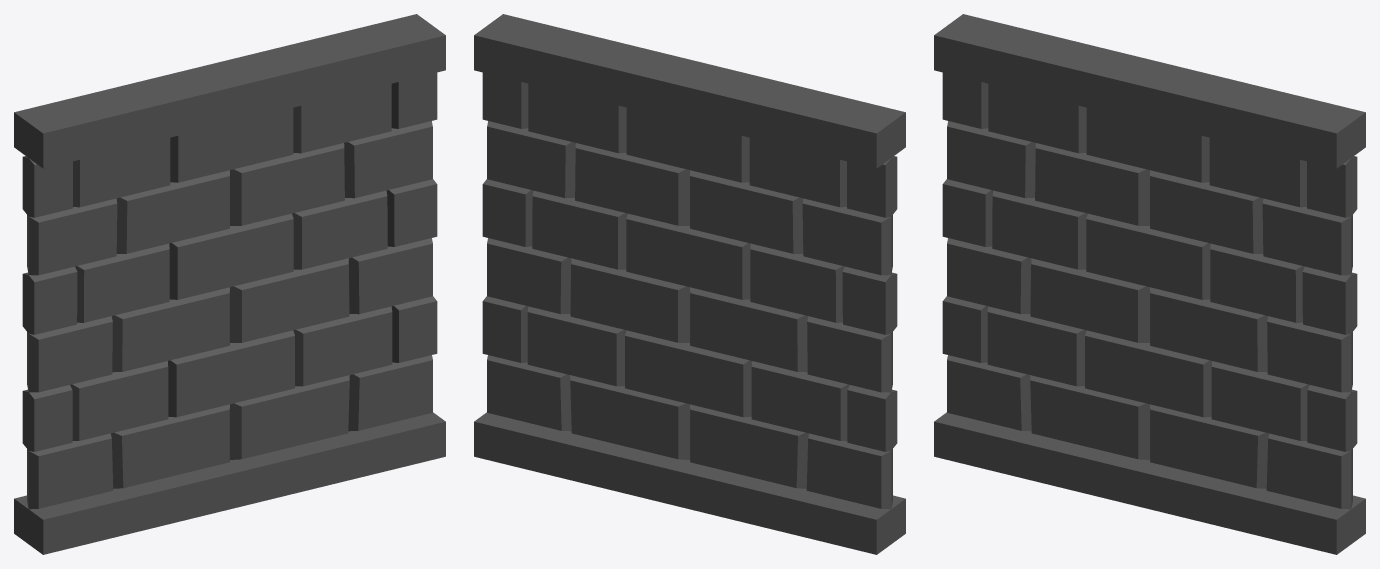
The model's file is Wall_4x4_2.fbx.
3 renders of one model, left to right at view 1: azimuth 30°, elevation 25°; view 2: azimuth 150°, elevation 25°; view 3: azimuth 330°, elevation 25°, orthographic.
Parts seen in each view (by area): view 1: Wall 1.001; view 2: Wall 1.001; view 3: Wall 1.001.
Boxes of the visible parts, box(x1,y1,x2,y2) form: Wall 1.001: box(14, 14, 445, 554); Wall 1.001: box(474, 14, 905, 554); Wall 1.001: box(934, 14, 1365, 554).
Size of the model in its own units: 400 by 400 by 50.
